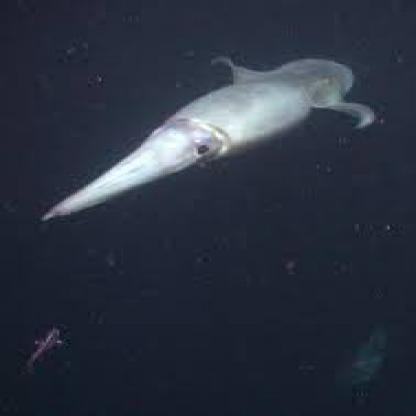colossal_squid: (28, 44, 378, 264)
